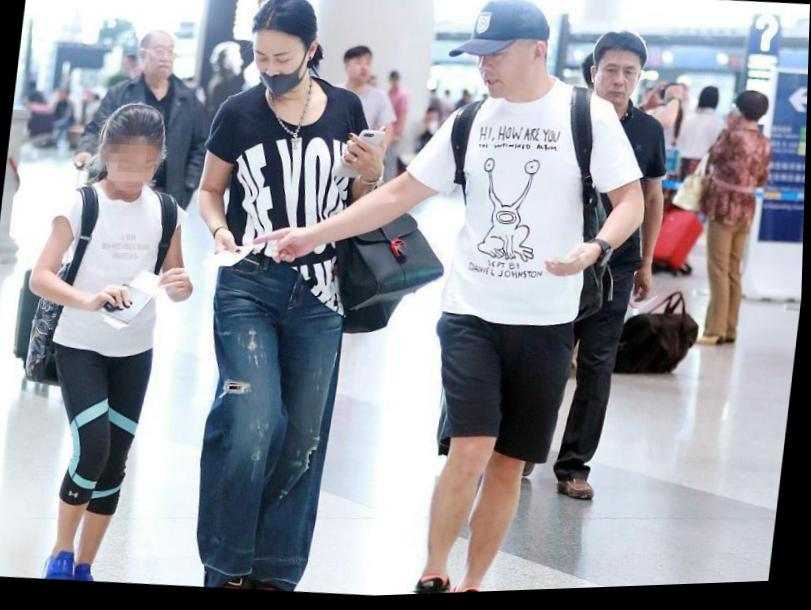NONE: (470, 43, 537, 106), (105, 143, 161, 200), (596, 59, 643, 109), (145, 42, 179, 79), (352, 56, 376, 89)
WRONG: (250, 37, 310, 98)
